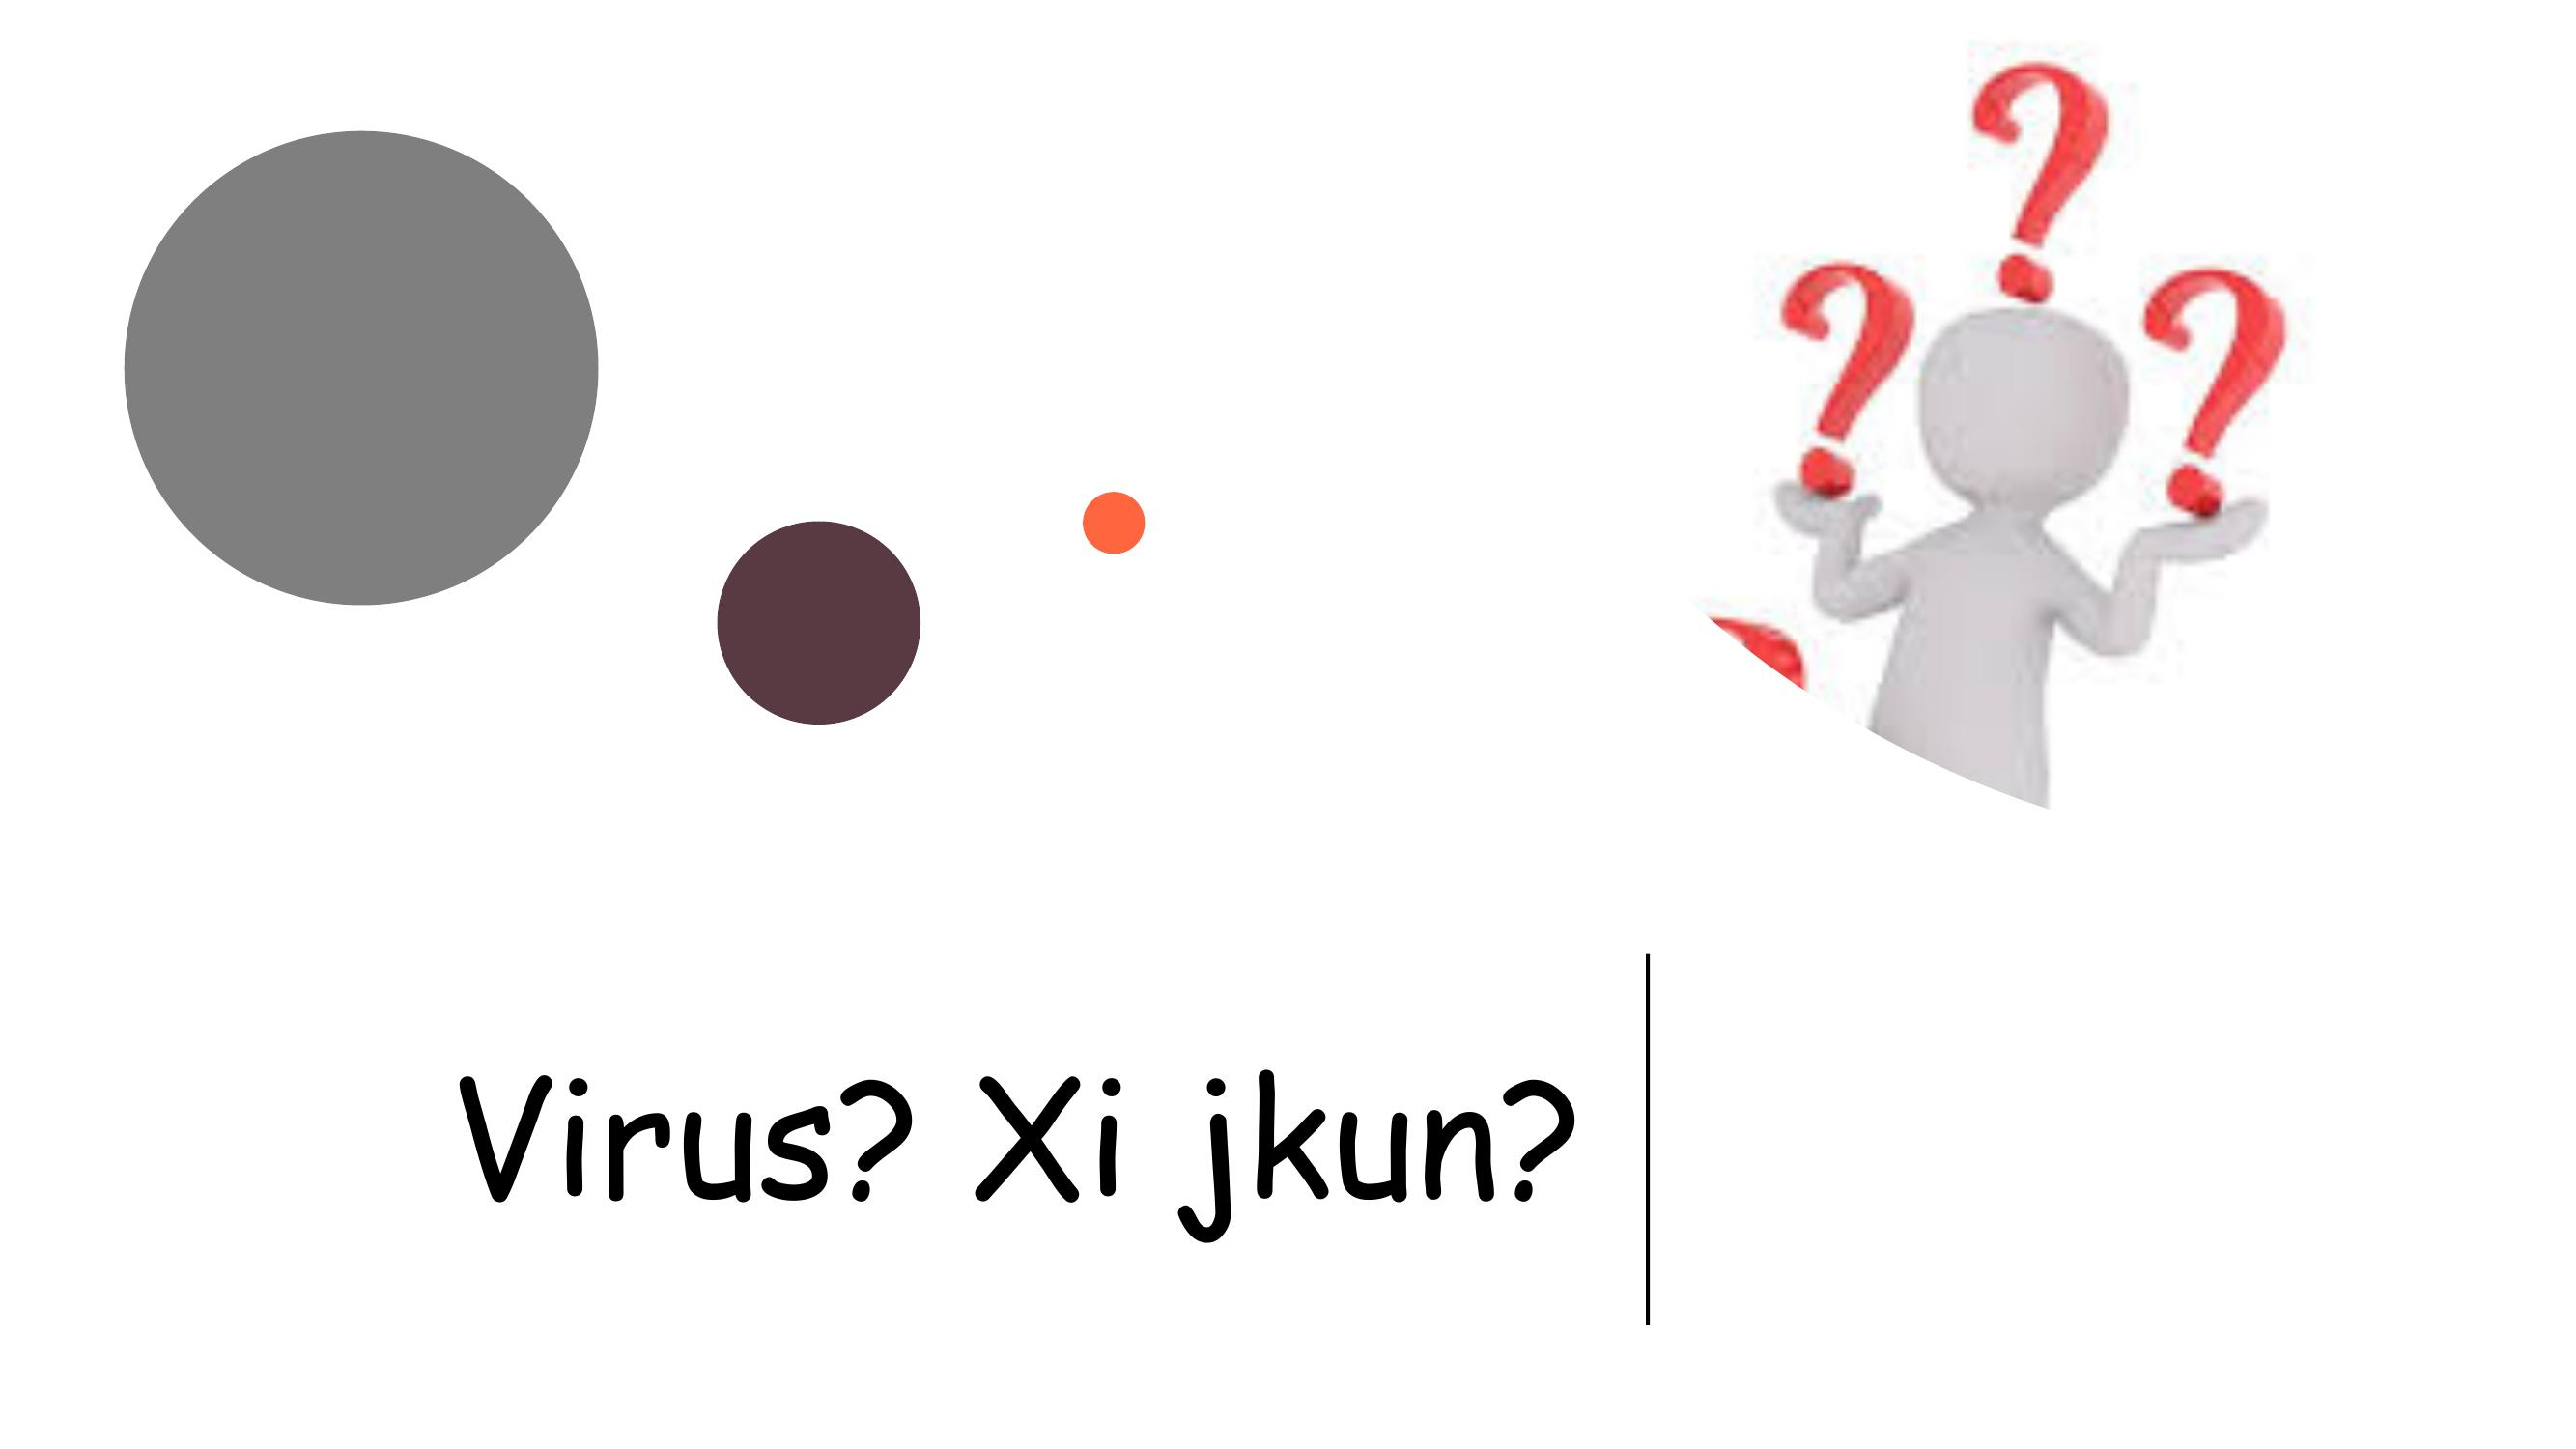text: (437, 1044, 1603, 1258)
